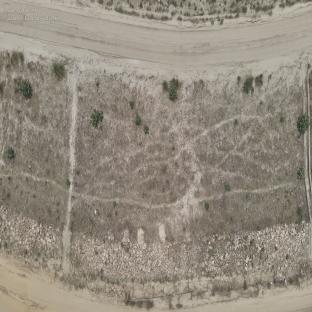rock_toe: (71, 221, 310, 295), (0, 203, 60, 274)
slope_drain: (60, 68, 79, 286)
